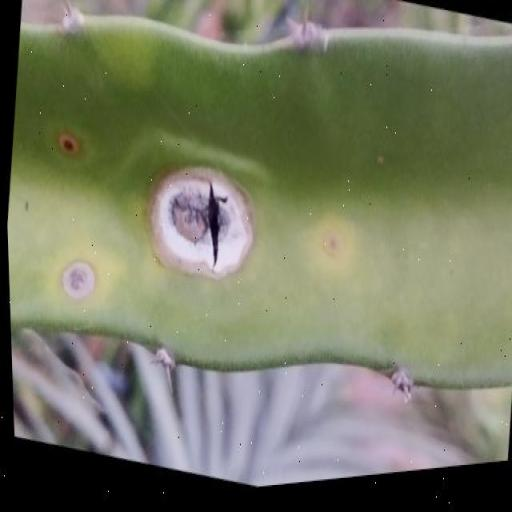stemcanker: (55, 249, 101, 313), (370, 145, 392, 173)
